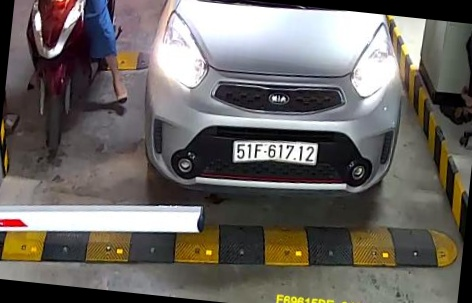plate: (229, 136, 319, 166)
